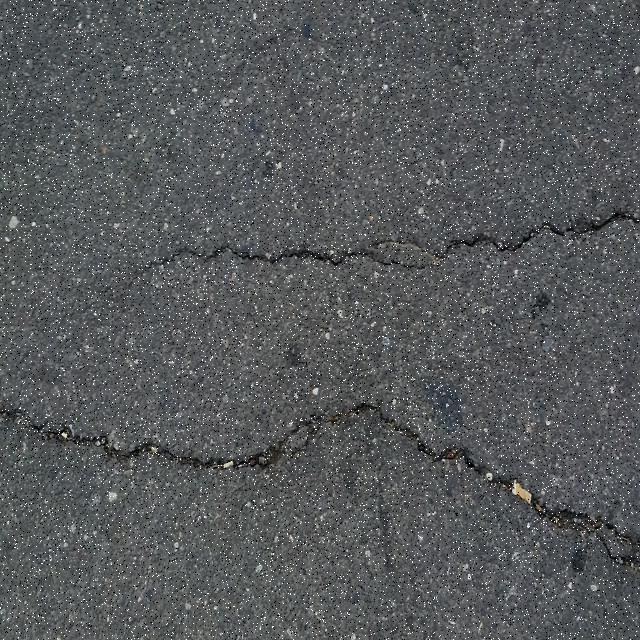Crack: (0, 401, 634, 544), (127, 212, 640, 300), (593, 531, 640, 568), (370, 239, 432, 258)
